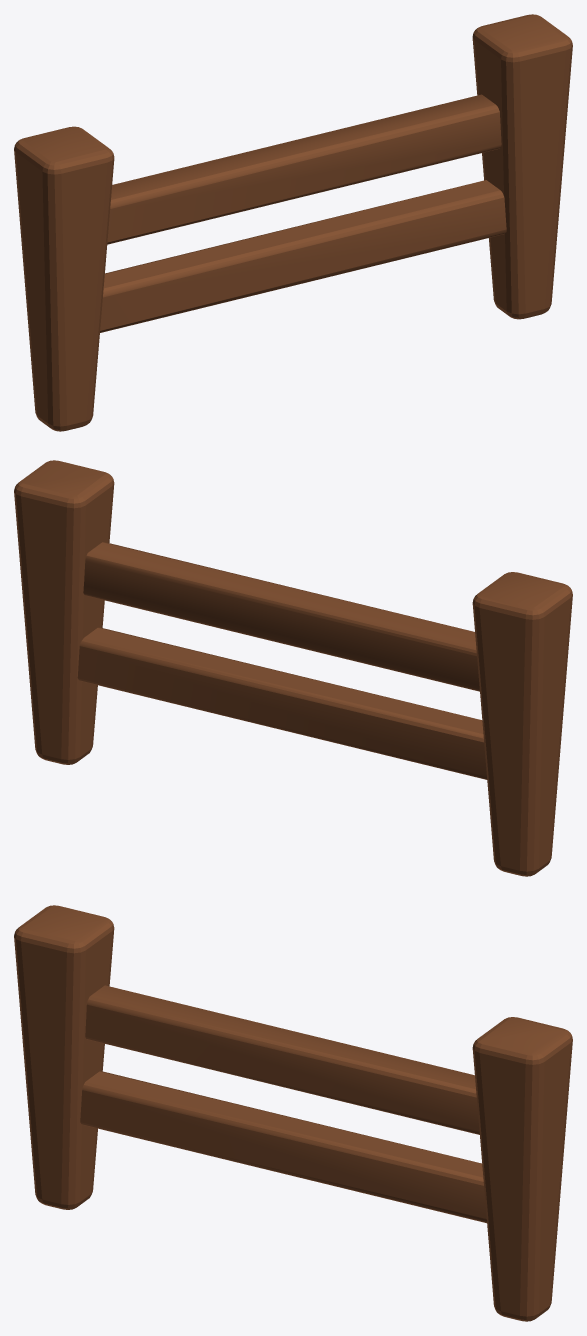
Rendered from farm_fence.glb.
3 views of the same model, one above another, from view 1: azimuth 30°, elevation 25°; view 2: azimuth 150°, elevation 25°; view 3: azimuth 330°, elevation 25° (orthographic).
Parts seen in each view (by area): view 1: farm_fence; view 2: farm_fence; view 3: farm_fence.
Boxes of the visible parts, <box> form: farm_fence: <box>14,14,572,431</box>; farm_fence: <box>14,460,572,876</box>; farm_fence: <box>14,905,572,1321</box>.
Size of the model in its own units: 1.66 by 0.8344 by 0.2221.
